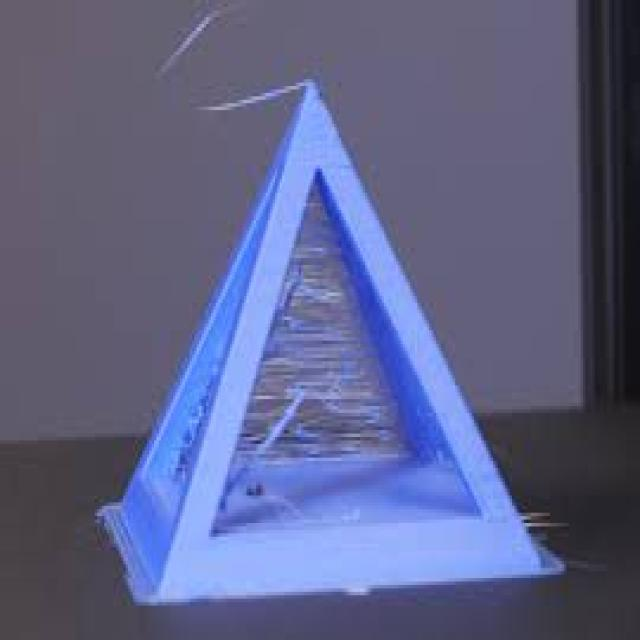stringing: (219, 421, 399, 536), (186, 17, 348, 132), (240, 295, 396, 412), (288, 177, 364, 280)
